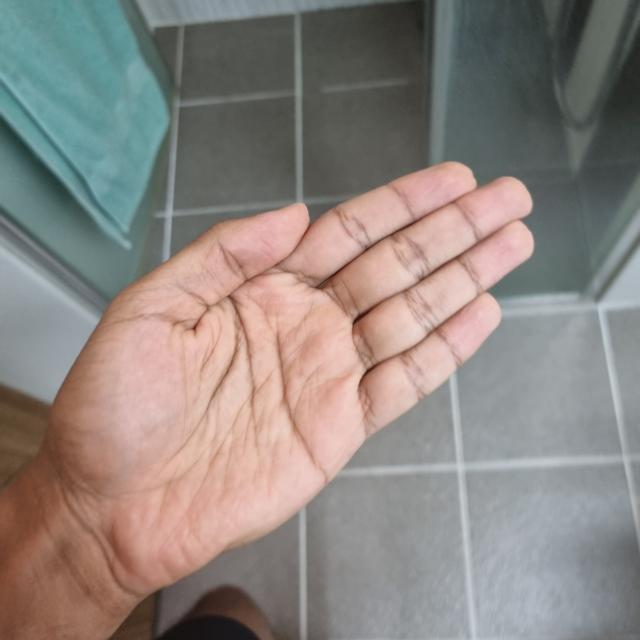Paper: (50, 162, 536, 576)
